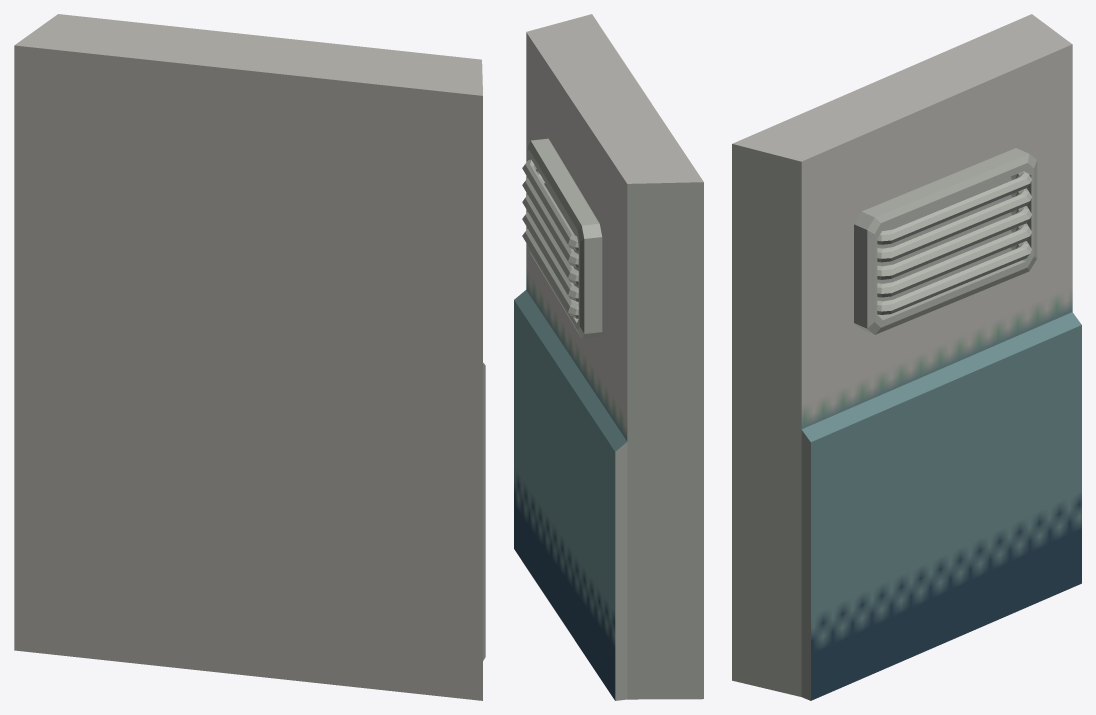
Rendered from vent_wall.fbx.
3 renders of one model, left to right at view 1: azimuth 30°, elevation 25°; view 2: azimuth 150°, elevation 25°; view 3: azimuth 270°, elevation 25°, orthographic. The views are drawn at different scales.
Parts seen in each view (by area): view 1: vent_wall; view 2: vent_wall; view 3: vent_wall.
Boxes of the visible parts, x1,y1,x2,y2 form: vent_wall: [14, 14, 485, 700]; vent_wall: [514, 14, 703, 700]; vent_wall: [732, 14, 1081, 700].
Size of the model in its own units: 95.85 by 160 by 94.36.
1 material, 1 textured.
